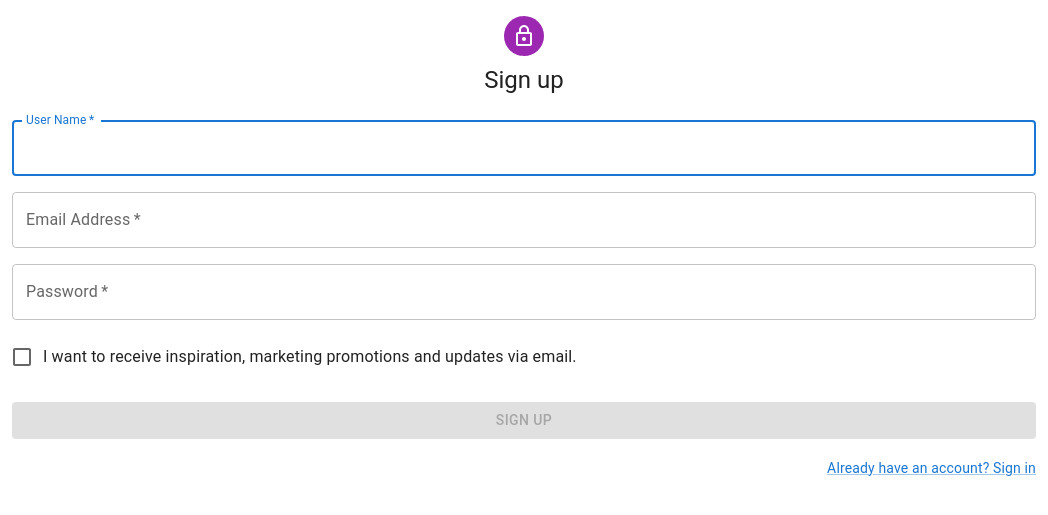
Scenario: SignUp Component › Validation › should display validation errors for short password
Type "123" into the password field labelled "Password *" at (524, 292), box [12, 264, 1036, 320]
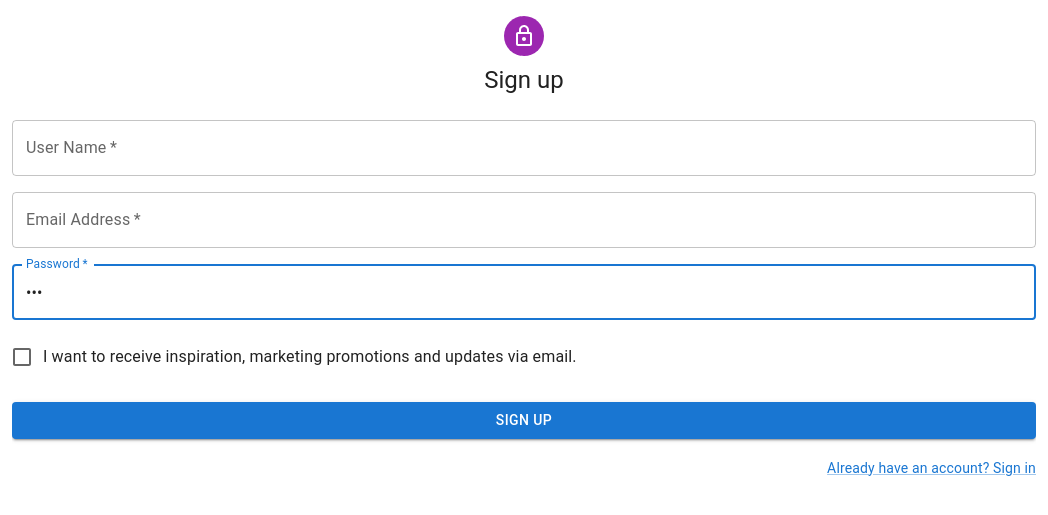
Press Tab
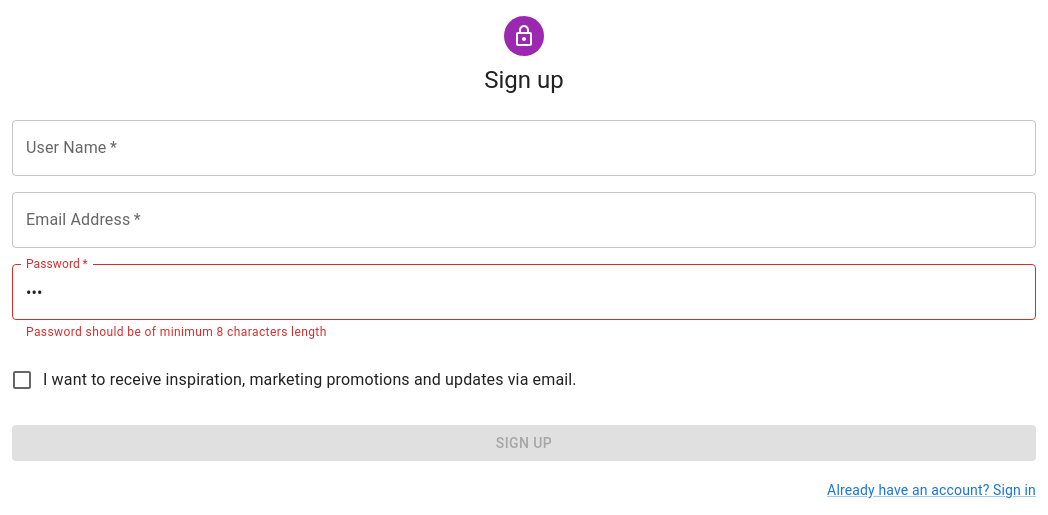
expect the text "Password should be of minimum 8 characters length" is shown: met, box [26, 325, 327, 339]
